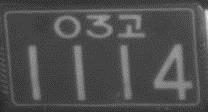0: (53, 14, 81, 39)
1: (19, 44, 52, 101), (64, 44, 94, 101), (111, 45, 141, 100)
3: (85, 13, 113, 38)
4: (153, 42, 192, 100)
고: (116, 13, 145, 39)
